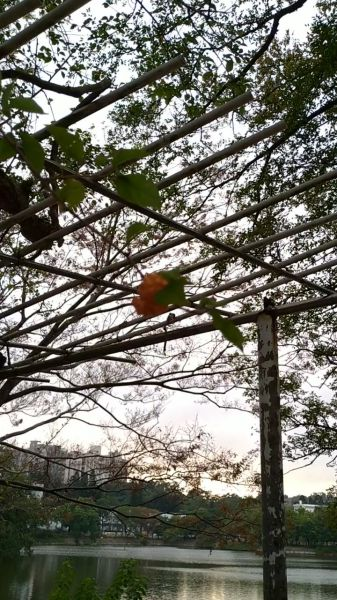eggs: (123, 268, 177, 320)
